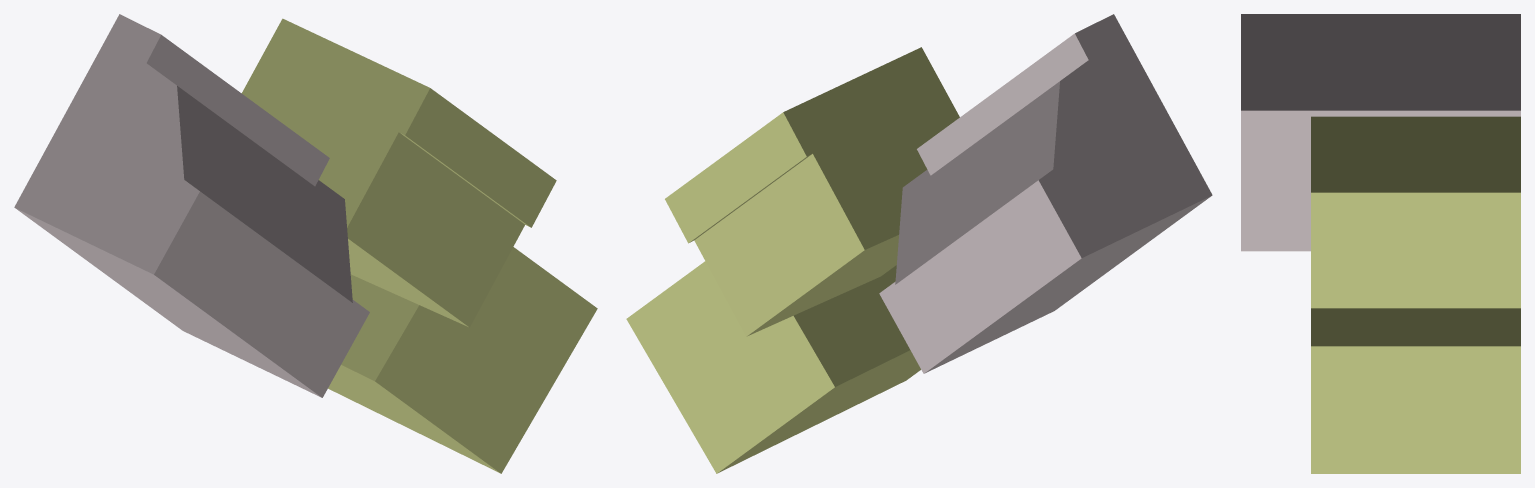
3 views of the same model, side by side, from view 1: azimuth 30°, elevation 25°; view 2: azimuth 150°, elevation 25°; view 3: azimuth 270°, elevation 25° (orthographic). The views are drawn at different scales.
Visible parts, largest first — view 1: 0_1_3_2_2_1_2_1_0_0; view 2: 0_1_3_2_2_1_2_1_0_0; view 3: 0_1_3_2_2_1_2_1_0_0.
Part boxes in pixels (bbox=[...]): 0_1_3_2_2_1_2_1_0_0: bbox=[14, 14, 597, 473]; 0_1_3_2_2_1_2_1_0_0: bbox=[626, 14, 1212, 473]; 0_1_3_2_2_1_2_1_0_0: bbox=[1241, 14, 1520, 473].
Size of the model in its own units: 18.78 by 16.87 by 12.
